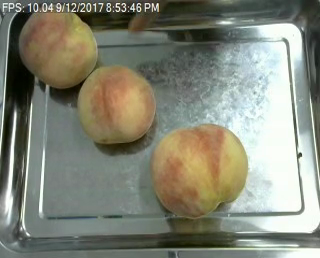Peach: (151, 123, 249, 217), (18, 4, 98, 88), (77, 64, 156, 144)
